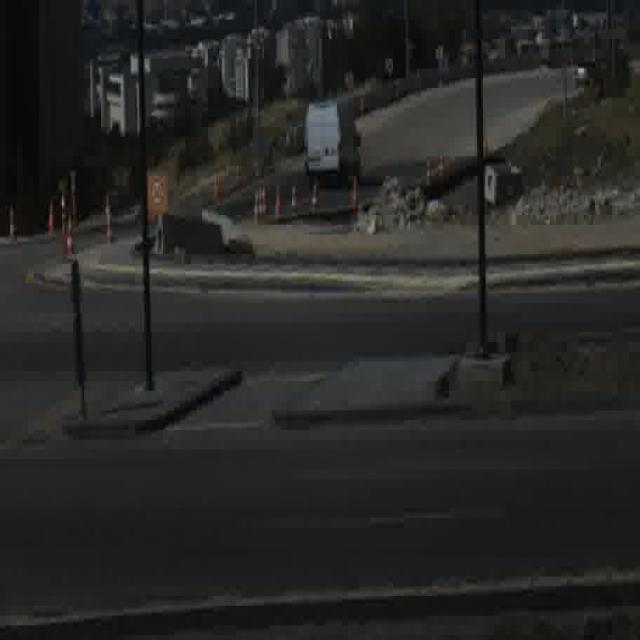Car: (303, 99, 359, 184), (573, 62, 596, 89)
